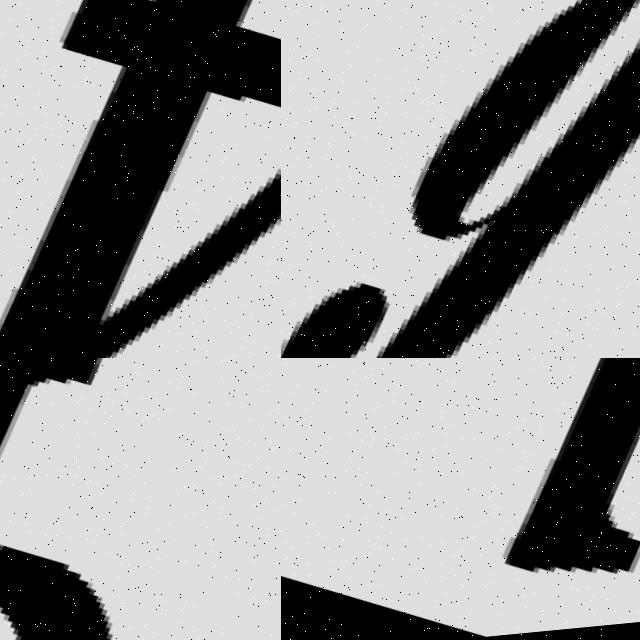6: (281, 0, 640, 358)
H: (298, 358, 640, 640)
Q: (0, 358, 260, 640)
